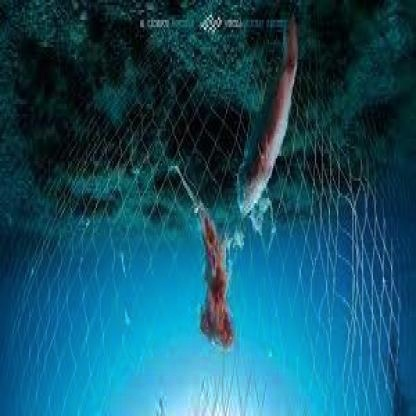net: (7, 50, 397, 411)
